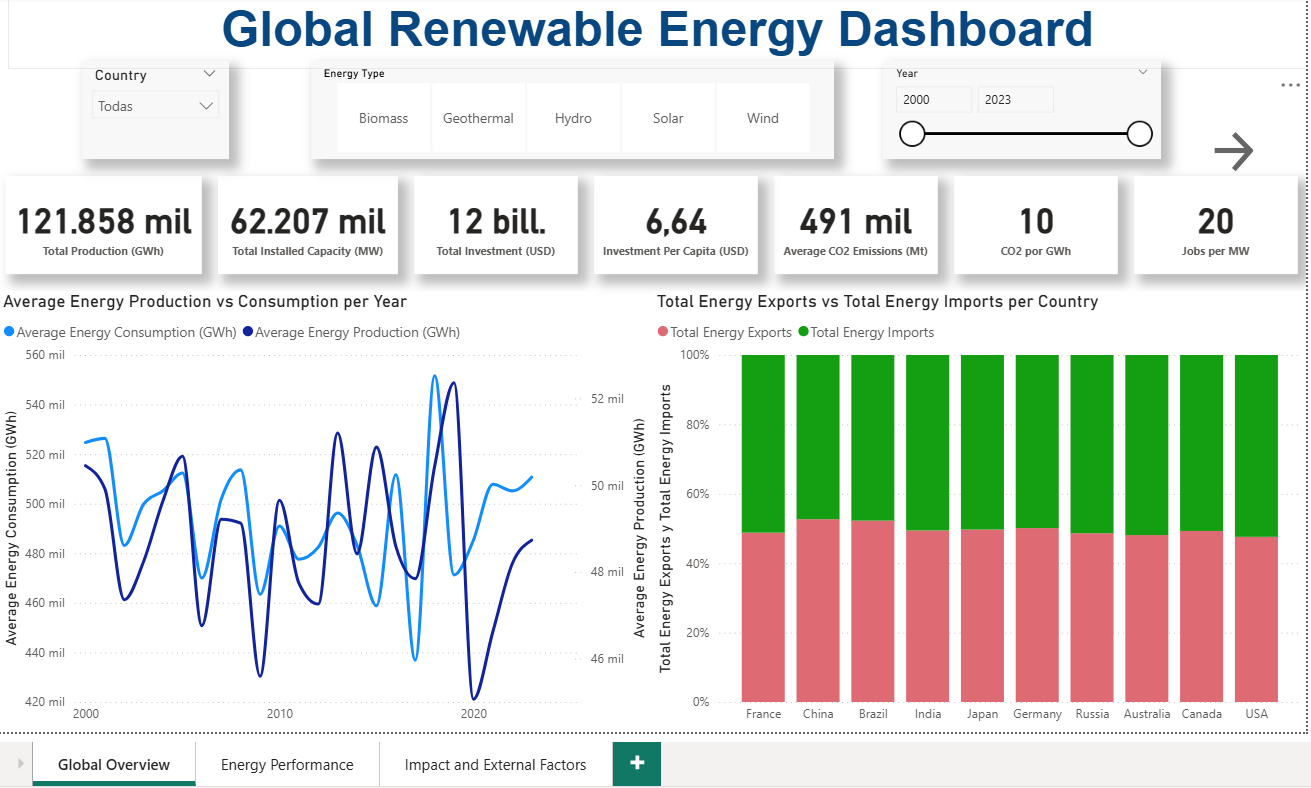

The dashboard page shown, as its layout file describes it:
{"tool":"powerbi","page":{"name":"Global Overview","canvas":[1280,720],"ordinal":0},"visuals":[{"type":"textbox","box":[9.6,0,1270.7,71.4],"z":0},{"type":"card","fields":{"Values":["FactRenewables.Producción Total"]},"box":[7.6,175.9,192,96],"z":1000},{"type":"slicer","fields":{"Values":["FactRenewables.Year"]},"box":[865.7,63.5,272,96],"z":2000},{"type":"card","fields":{"Values":["FactRenewables.Capacidad Instalada Total (MW)"]},"box":[215.6,175.9,176,96],"z":3000},{"type":"slicer","fields":{"Values":["FactRenewables.Country"]},"box":[81.7,63.5,144,96],"z":4000},{"type":"slicer","fields":{"Values":["FactRenewables.Energy Type"]},"box":[305.7,63.5,512,96],"z":5000},{"type":"card","fields":{"Values":["FactRenewables.Inversión Total (USD)"]},"box":[407.6,175.9,160,96],"z":6000},{"type":"lineChart","title":"Average Energy Production vs Consumption per Year","fields":{"Category":["FactRenewables.Year"],"Y2":["FactRenewables.Average Energy Production (GWh)"],"Y":["FactRenewables.Average Energy Consumption (GWh)"]},"box":[0,288,640,432],"z":7000},{"type":"card","fields":{"Values":["FactRenewables.Emisiones CO2 Totales"]},"box":[759.6,175.9,160,96],"z":9000},{"type":"card","fields":{"Values":["FactRenewables.Inversión per Cápita"]},"box":[583.6,175.9,160,96],"z":11000},{"type":"card","fields":{"Values":["FactRenewables.CO2 por GWh"]},"box":[935.6,175.9,160,96],"z":13000},{"type":"card","fields":{"Values":["FactRenewables.Jobs per MW"]},"box":[1111.6,175.9,160,96],"z":13001},{"type":"hundredPercentStackedColumnChart","title":"Total Energy Exports vs Total Energy Imports per Country","fields":{"Category":["Dim_Date.Year","Dim_Country.Country"],"Y":["FactRenewables.Total Energy Exports","FactRenewables.Total Energy Imports"]},"box":[640,288,640,432],"z":13002},{"type":"actionButton","box":[1184,128,64,48],"z":13003}]}

Visuals, with their boxes on the page's 1280x720 design canvas (x1, y1, x2, y2). These are canvas units, not pixel positions in the 1311x788 screenshot, which may show the page scaled, cropped or inside an application window:
textbox: bbox=(10, 0, 1280, 71)
card - FactRenewables.Producción Total: bbox=(8, 176, 200, 272)
slicer - FactRenewables.Year: bbox=(866, 64, 1138, 160)
card - FactRenewables.Capacidad Instalada Total (MW): bbox=(216, 176, 392, 272)
slicer - FactRenewables.Country: bbox=(82, 64, 226, 160)
slicer - FactRenewables.Energy Type: bbox=(306, 64, 818, 160)
card - FactRenewables.Inversión Total (USD): bbox=(408, 176, 568, 272)
"Average Energy Production vs Consumption per Year" lineChart: bbox=(0, 288, 640, 720)
card - FactRenewables.Emisiones CO2 Totales: bbox=(760, 176, 920, 272)
card - FactRenewables.Inversión per Cápita: bbox=(584, 176, 744, 272)
card - FactRenewables.CO2 por GWh: bbox=(936, 176, 1096, 272)
card - FactRenewables.Jobs per MW: bbox=(1112, 176, 1272, 272)
"Total Energy Exports vs Total Energy Imports per Country" hundredPercentStackedColumnChart: bbox=(640, 288, 1280, 720)
actionButton: bbox=(1184, 128, 1248, 176)
